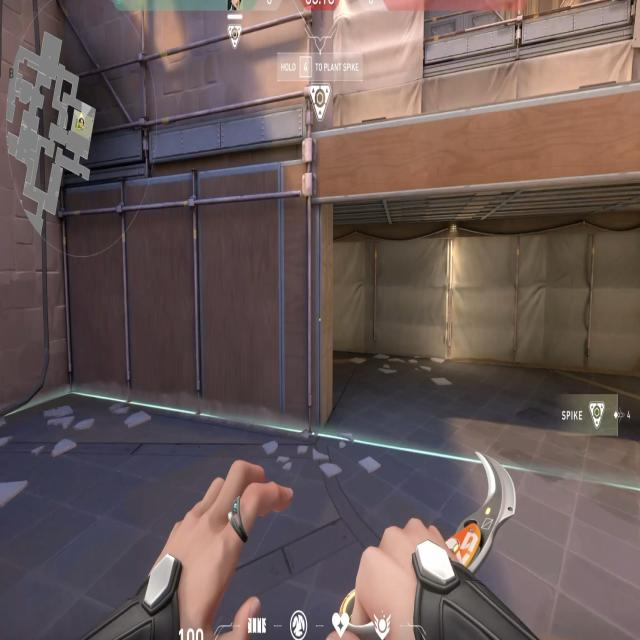A_Hell: (304, 93, 640, 476)
